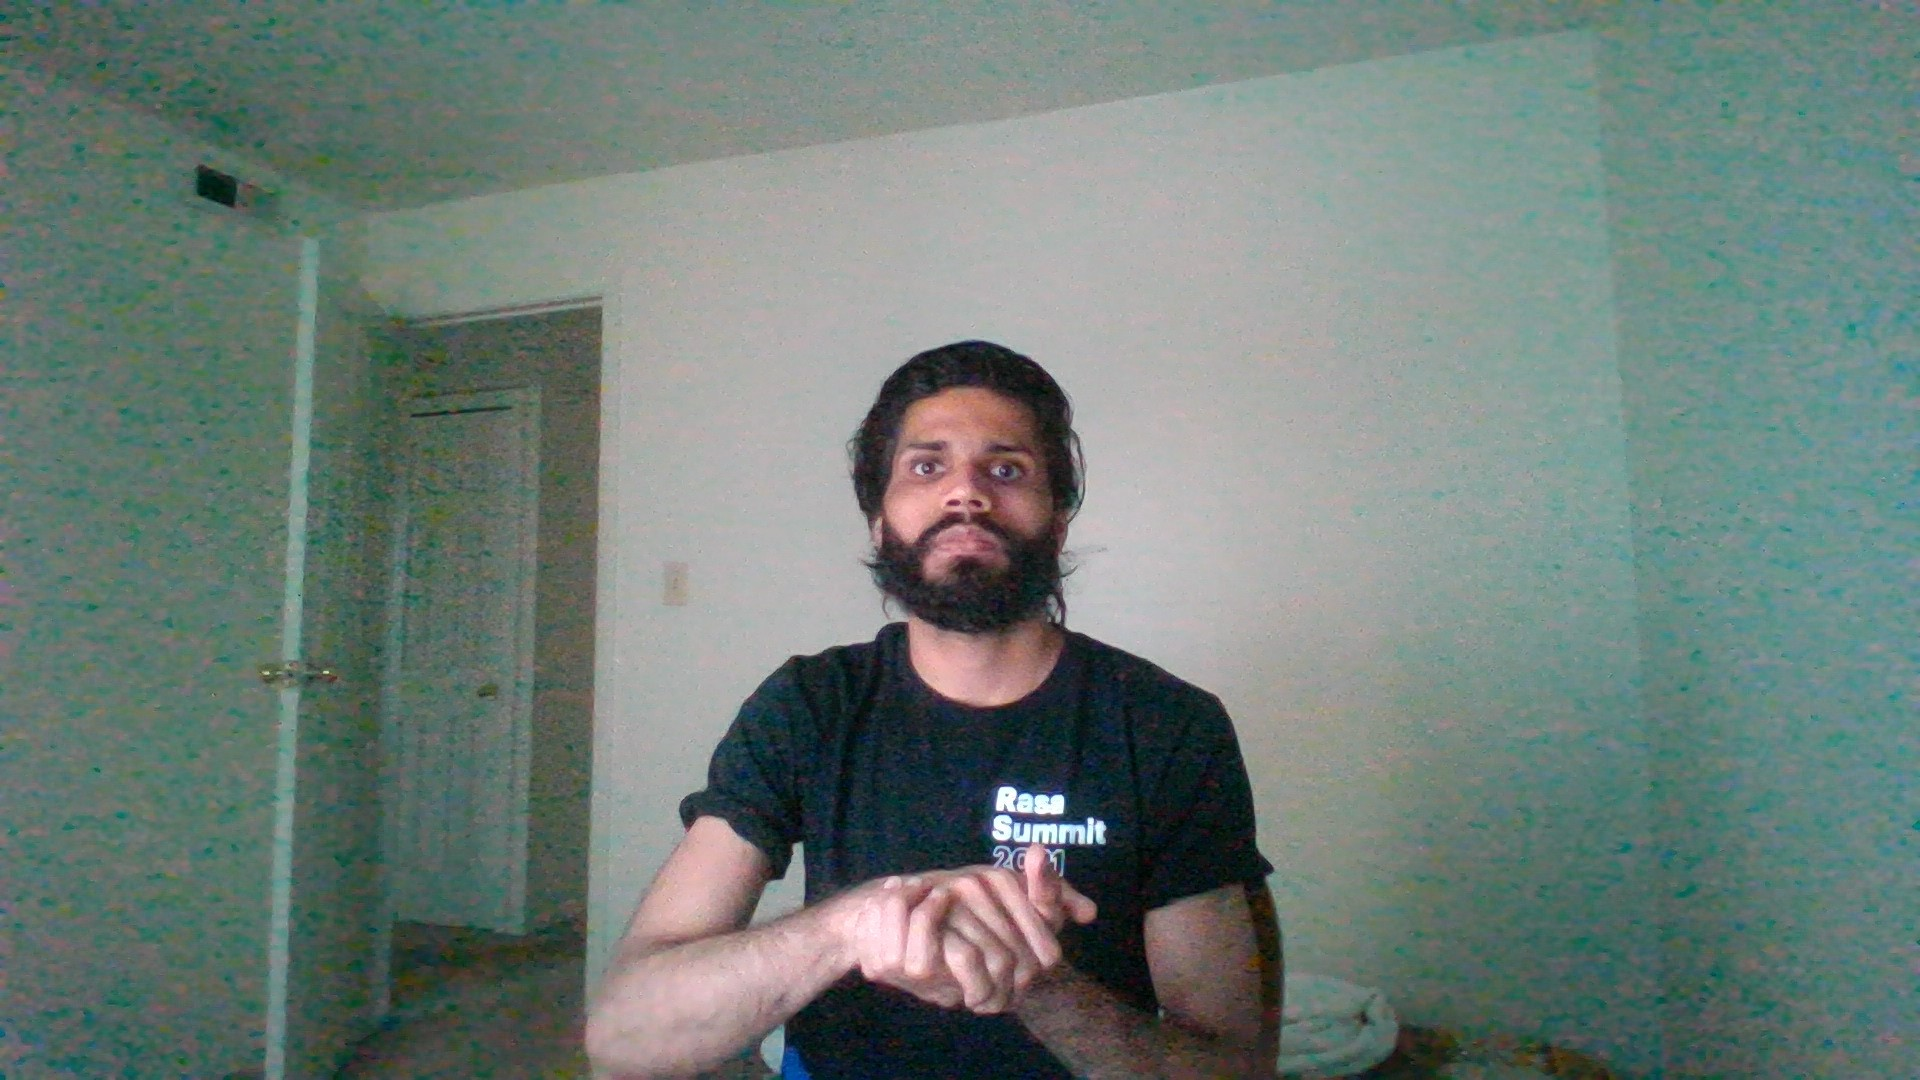Marriage: (829, 831, 1120, 1044)
